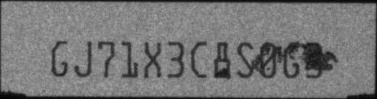0: (258, 42, 278, 79)
1: (120, 40, 139, 78)
3: (304, 40, 324, 79), (166, 39, 185, 78)
7: (98, 40, 114, 77)
8: (212, 39, 232, 79)
C: (190, 40, 207, 79)
G: (50, 38, 68, 76), (282, 41, 298, 79)
J: (74, 40, 93, 78)
S: (236, 42, 255, 78)
X: (143, 40, 162, 79)
